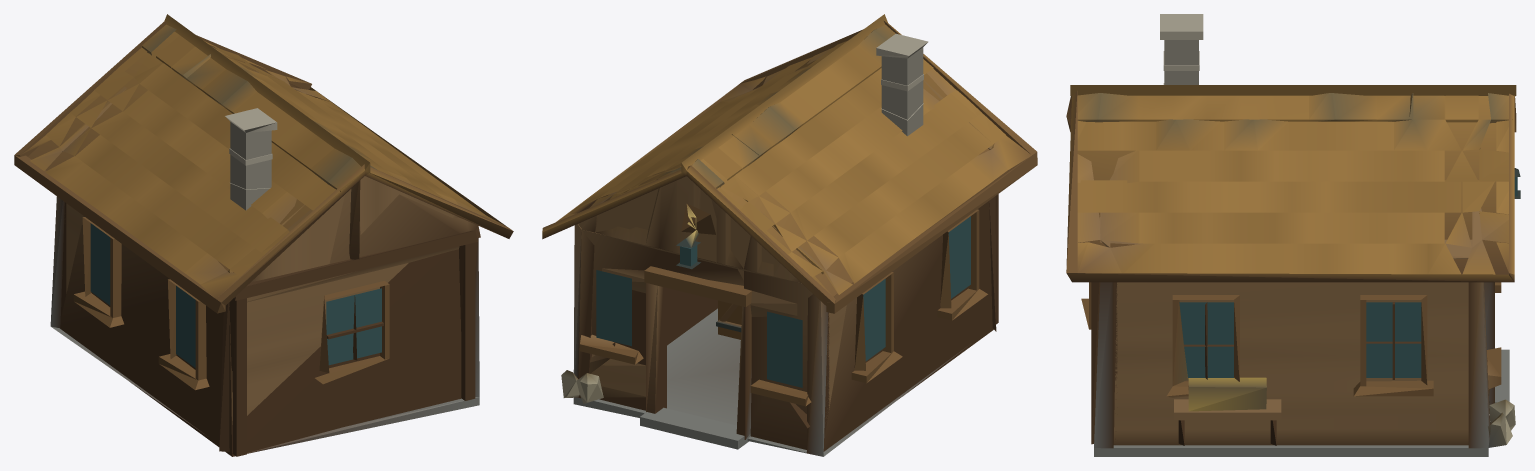
File: Farmstead.glb
The picture shows the model from 3 angles, left to right: view 1: azimuth 30°, elevation 25°; view 2: azimuth 150°, elevation 25°; view 3: azimuth 270°, elevation 25°; orthographic projection. The views are drawn at different scales.
Visible parts, largest first — view 1: Farmstead_P0_LOD1, FarmsteadGlass_P0_LOD1; view 2: Farmstead_P0_LOD1, FarmsteadGlass_P0_LOD1, FarmsteadDoor_P0_LOD1; view 3: Farmstead_P0_LOD1, FarmsteadGlass_P0_LOD1.
Boxes of the visible parts, x1=… form: Farmstead_P0_LOD1: x1=14, y1=14, x2=513, y2=456; FarmsteadGlass_P0_LOD1: x1=90, y1=223, x2=381, y2=367; Farmstead_P0_LOD1: x1=542, y1=14, x2=1037, y2=456; FarmsteadGlass_P0_LOD1: x1=596, y1=216, x2=970, y2=387; FarmsteadDoor_P0_LOD1: x1=716, y1=300, x2=742, y2=339; Farmstead_P0_LOD1: x1=1066, y1=14, x2=1520, y2=456; FarmsteadGlass_P0_LOD1: x1=1179, y1=177, x2=1517, y2=377.
Bounding box in the file's own units: 5.29 × 5.19 × 6.42.
